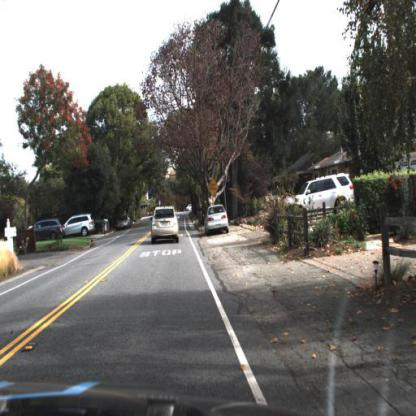car: (285, 173, 356, 217), (152, 205, 181, 245), (31, 219, 66, 243), (66, 213, 97, 236), (206, 206, 229, 236), (184, 199, 196, 218)
